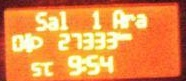0: (11, 32, 22, 51)
1: (90, 8, 102, 29)
2: (57, 32, 69, 50)
3: (105, 30, 117, 49), (82, 31, 93, 50), (94, 30, 105, 49)
4: (98, 53, 113, 73)
5: (87, 53, 99, 74), (30, 61, 40, 76)
7: (70, 31, 81, 49)
9: (67, 54, 81, 75)
X: (111, 8, 123, 29), (34, 10, 46, 30), (135, 11, 148, 28), (58, 10, 68, 30), (123, 12, 134, 28), (47, 15, 58, 30), (44, 61, 52, 76), (81, 56, 86, 72), (117, 30, 123, 41), (123, 32, 131, 40)
